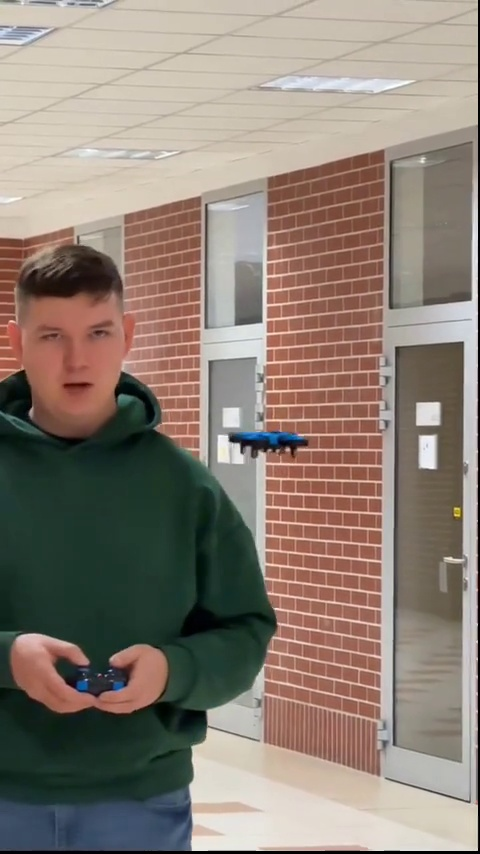drone: (231, 430, 305, 462)
no vest: (0, 246, 280, 840)
